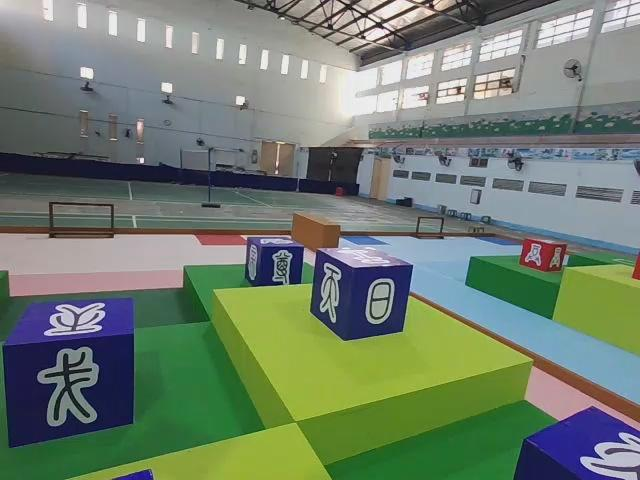R2 Fake Blue: (4, 299, 136, 451), (308, 247, 412, 340), (245, 238, 306, 289)
